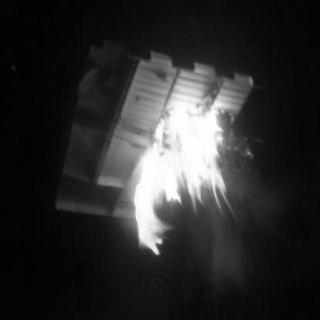Fire: (131, 96, 271, 266)
